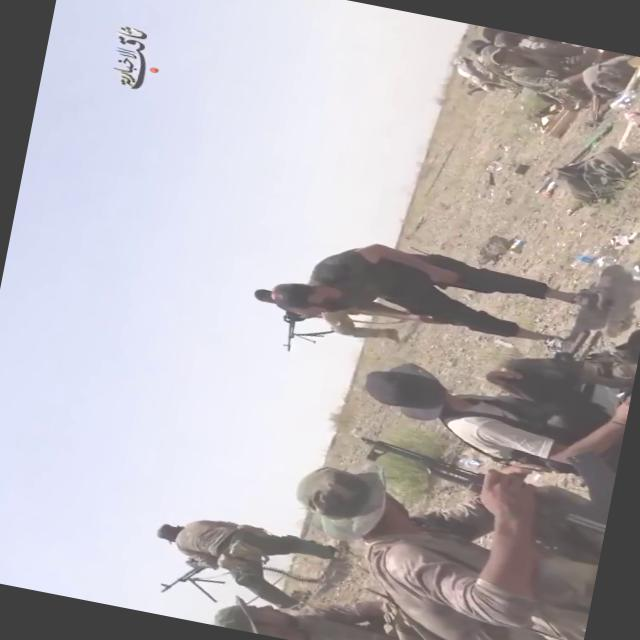long weapon: (336, 426, 614, 534), (266, 310, 332, 364)
